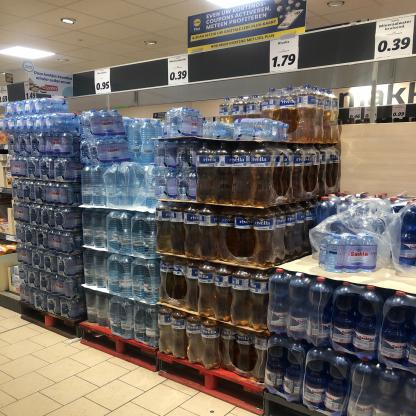prtg: (375, 16, 415, 60), (271, 37, 300, 74), (169, 56, 189, 86), (95, 69, 112, 95), (25, 83, 38, 101), (1, 86, 10, 106)
